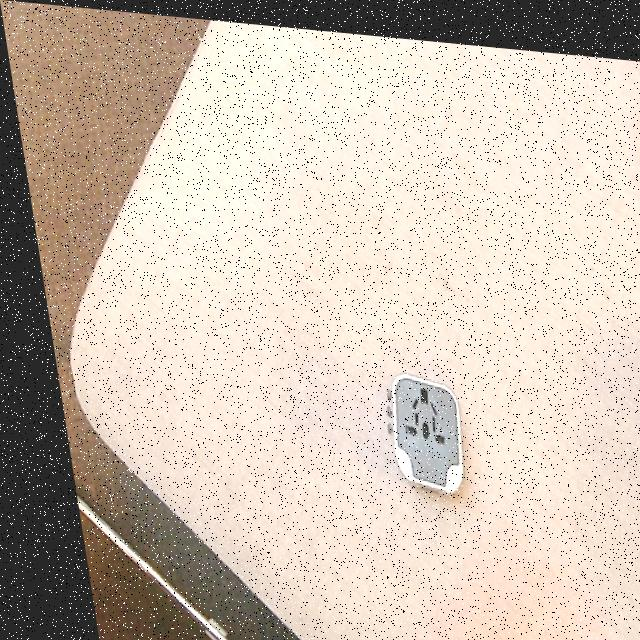adapter: (365, 362, 458, 489)
